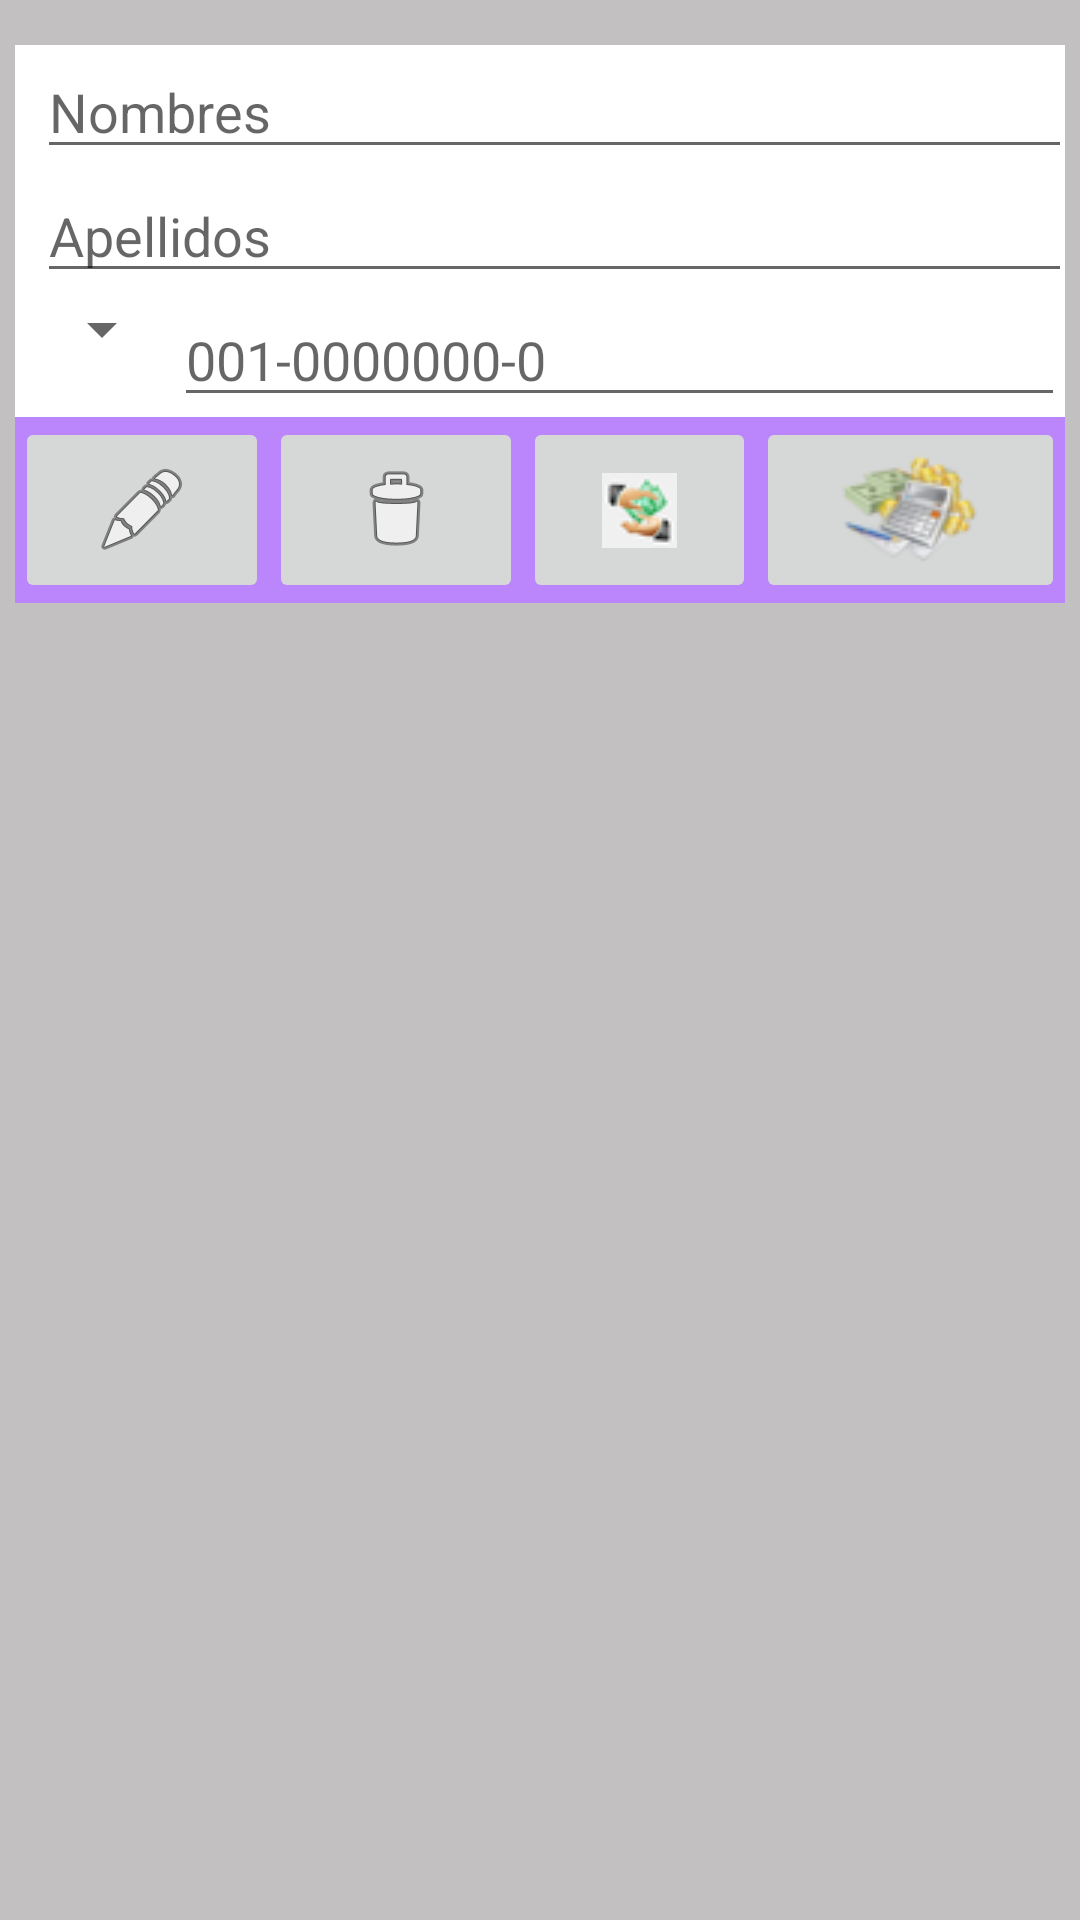

Screen size 1080×1920. Icon name, then its center in pixels as (x=x, y=y):
delete: (x=396, y=510)
edit: (x=142, y=510)
pagosrecibidos: (x=910, y=510)
prestamo: (x=639, y=510)
